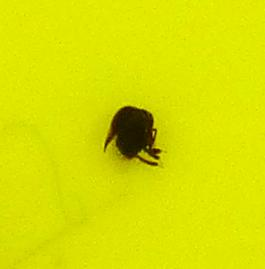Hymenoptera: (100, 100, 165, 169)
